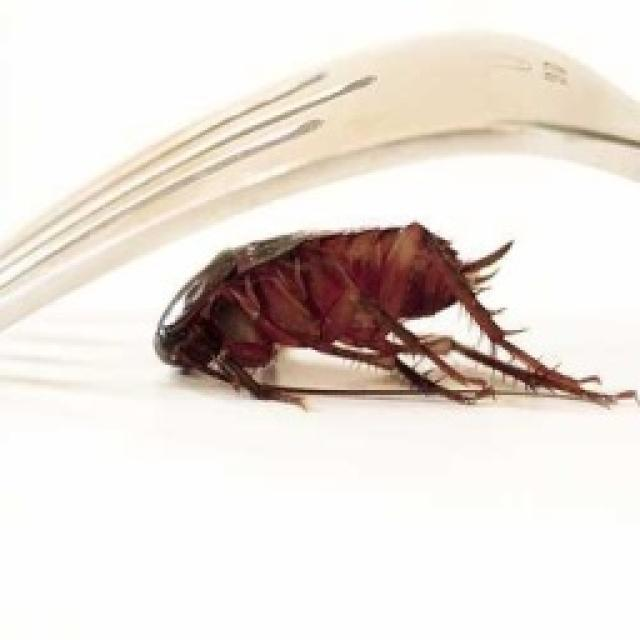cockroach: (149, 218, 635, 413)
